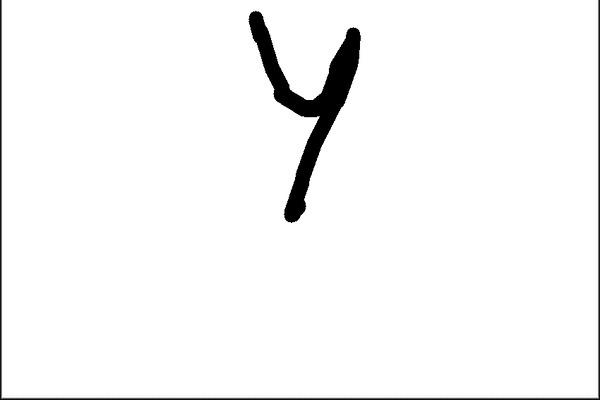Y: (231, 1, 366, 244)
